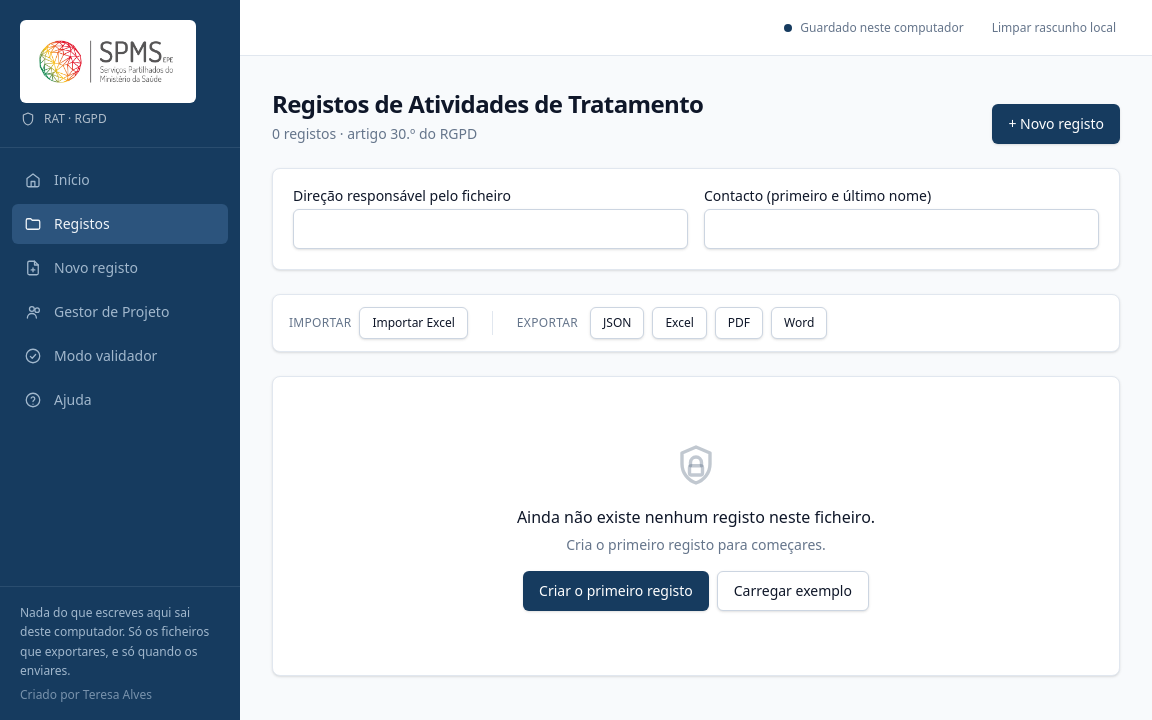
wizard de preenchimento › preenche a Direção por omissão e oferece as Unidades de Coordenação
The width and height of the screenshot is (1152, 720).
Click the button "+ Novo registo": (1056, 124) [992, 104, 1120, 144]
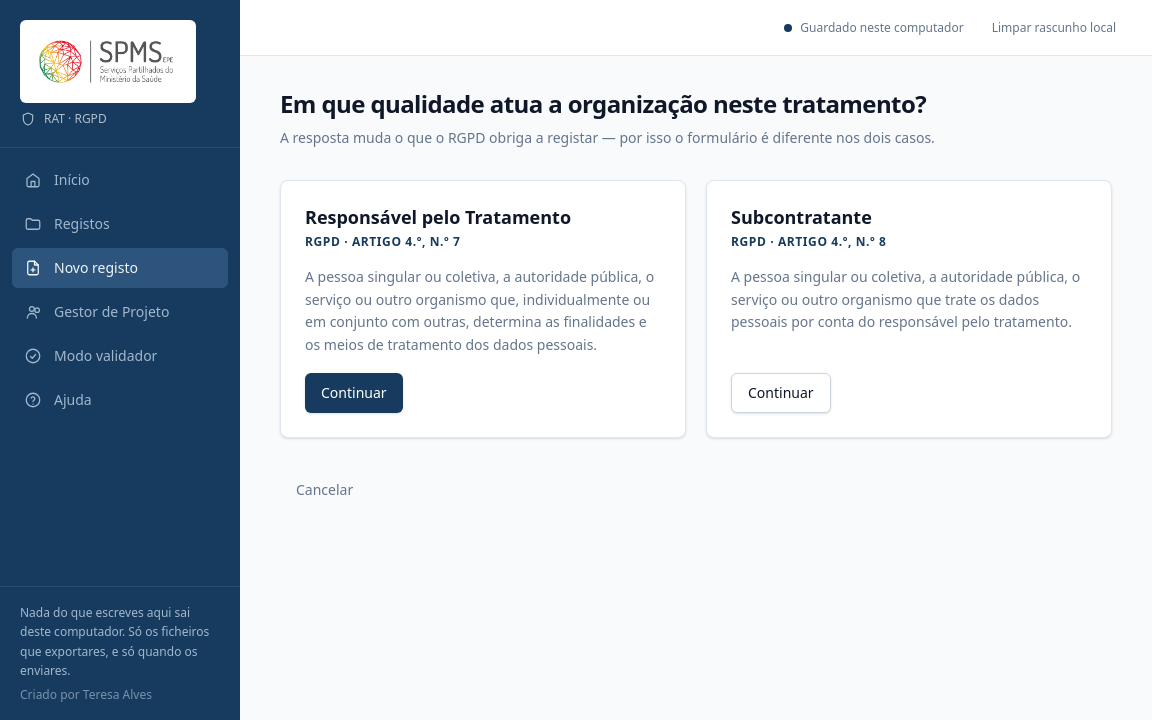
Click the button "Continuar" below "Artigo 4.º, n.º 7": (354, 393) [305, 373, 403, 413]
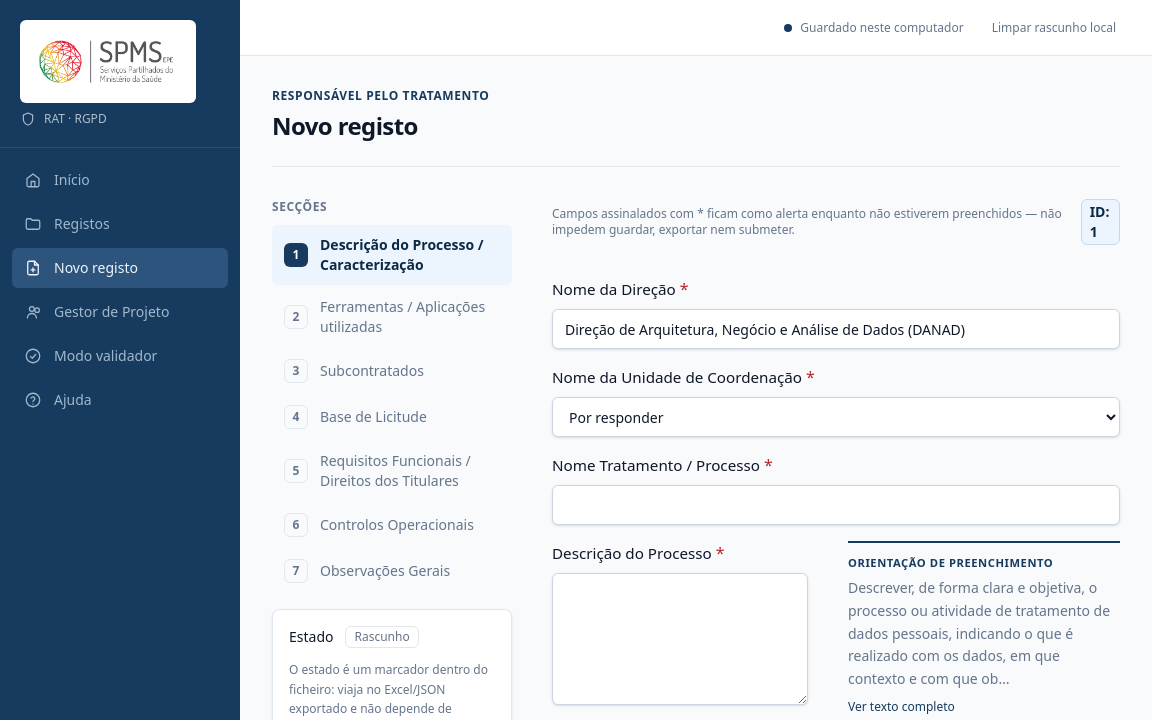
Expected: the field labelled "Nome da Direção" holds "Direção de Arquitetura, Negócio e Análise de Dados (DANAD)", [552, 309, 1120, 349]
